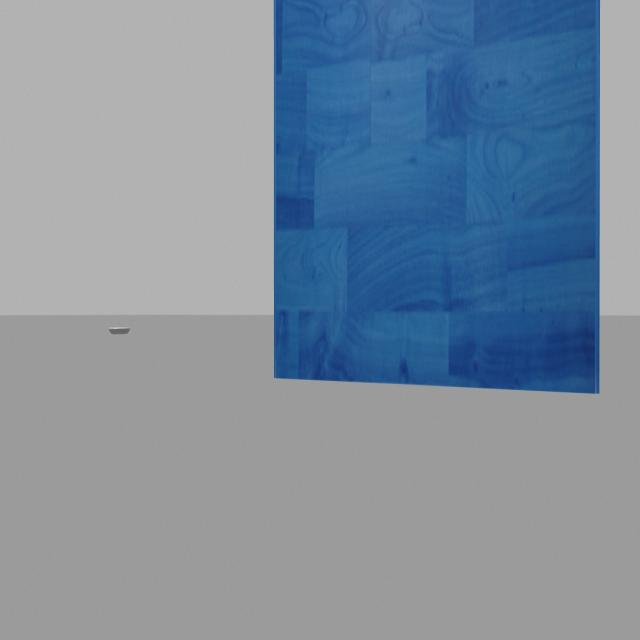shelf: (256, 0, 614, 417), (103, 316, 140, 346)
